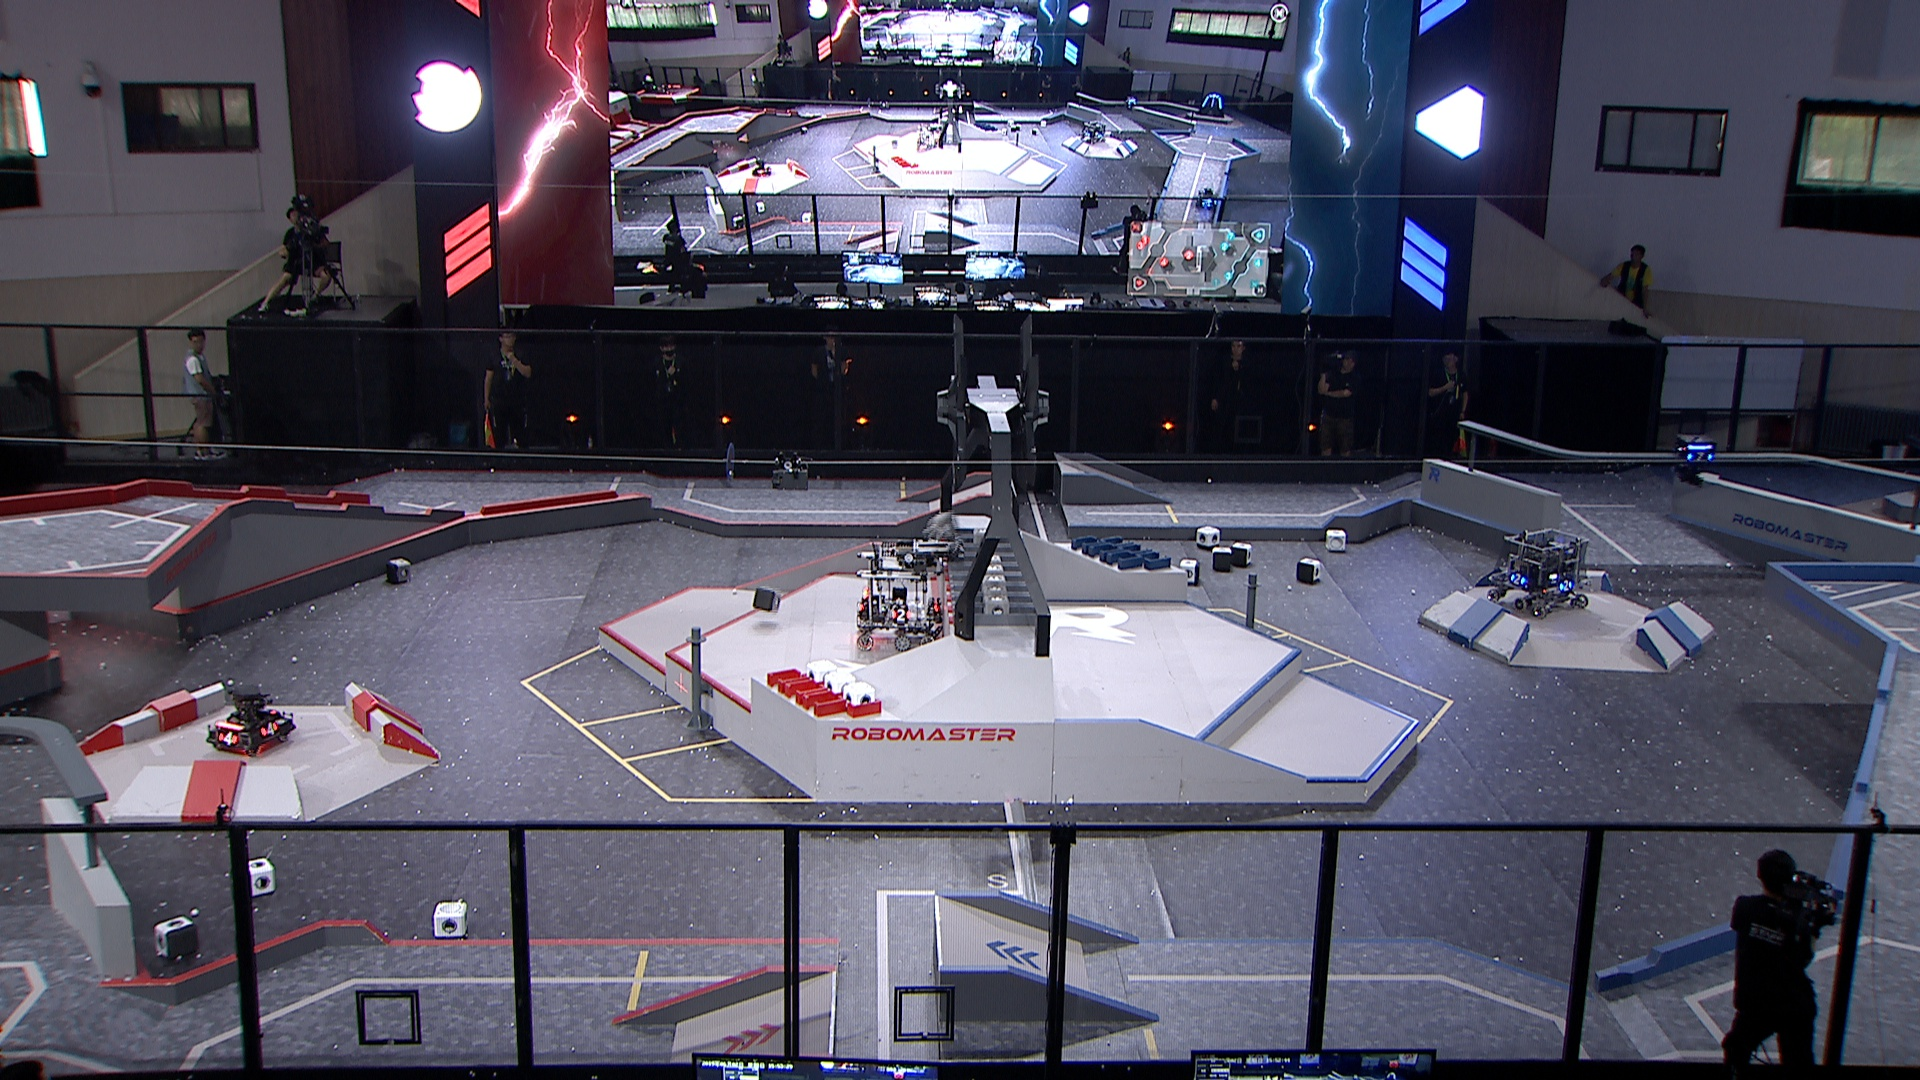armor: (1685, 450, 1716, 465), (887, 605, 913, 622), (258, 717, 278, 737), (1509, 570, 1528, 589), (215, 731, 237, 746), (1557, 576, 1575, 593)
car: (851, 531, 957, 655), (1484, 527, 1592, 622), (202, 680, 301, 757)
ignore: (915, 120, 945, 152), (1077, 116, 1106, 144), (1196, 91, 1226, 116), (1193, 185, 1220, 211), (746, 156, 774, 178), (1125, 94, 1138, 111)
watcher: (1671, 431, 1718, 489)
